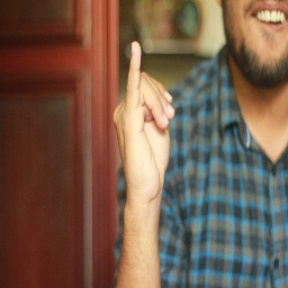I: (108, 37, 174, 197)
